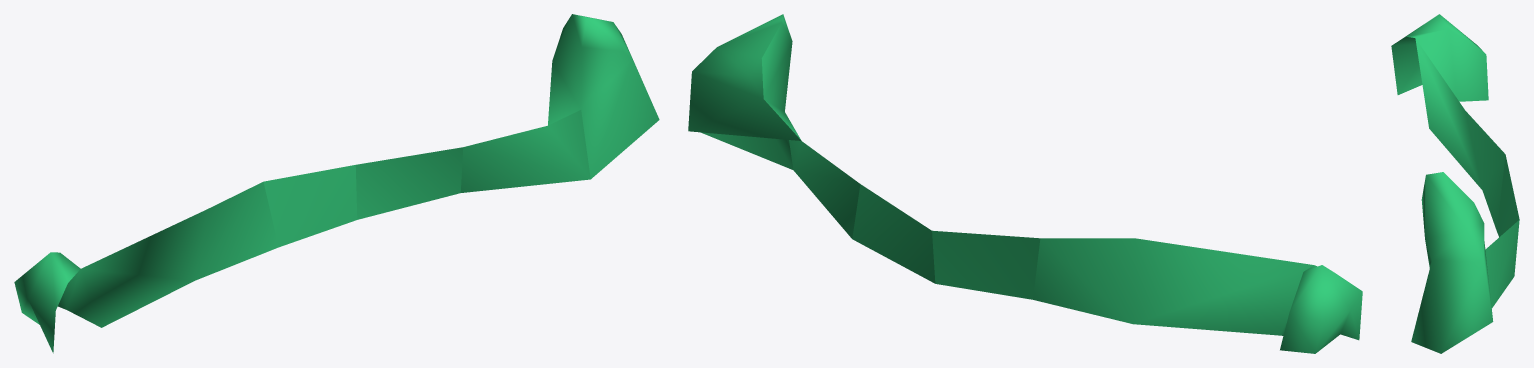
The model's file is cluster_2.fbx.
3 views of the same model, side by side, from view 1: azimuth 30°, elevation 25°; view 2: azimuth 150°, elevation 25°; view 3: azimuth 270°, elevation 25° (orthographic). The views are drawn at different scales.
Visible parts, largest first — view 1: cluster_2; view 2: cluster_2; view 3: cluster_2.
Part boxes in pixels (bbox=[...]): cluster_2: bbox=[14, 14, 659, 353]; cluster_2: bbox=[688, 14, 1362, 353]; cluster_2: bbox=[1391, 14, 1519, 353].
Size of the model in its own units: 281670 by 82002 by 45599.
